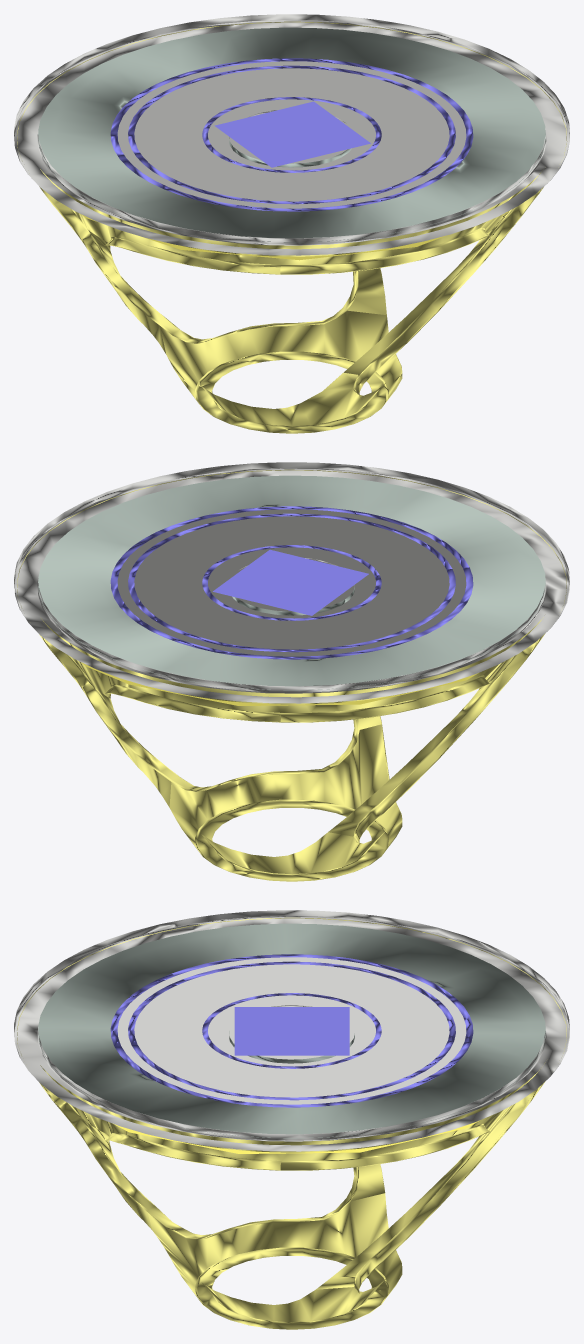
Rendered from table_glass_1_b.glb.
The picture shows the model from 3 angles, top to bottom: view 1: azimuth 30°, elevation 25°; view 2: azimuth 150°, elevation 25°; view 3: azimuth 270°, elevation 25°; orthographic projection.
Size of the model in its own units: 1.54 by 0.8055 by 1.54.
